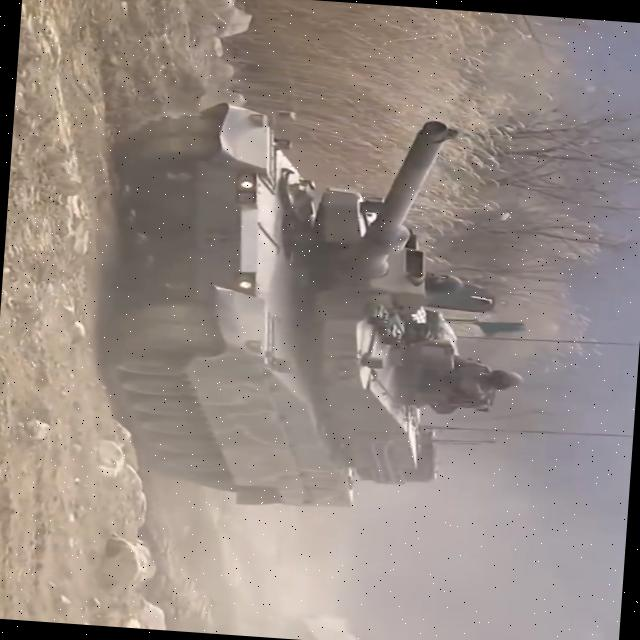korea tank: (94, 90, 544, 525)
